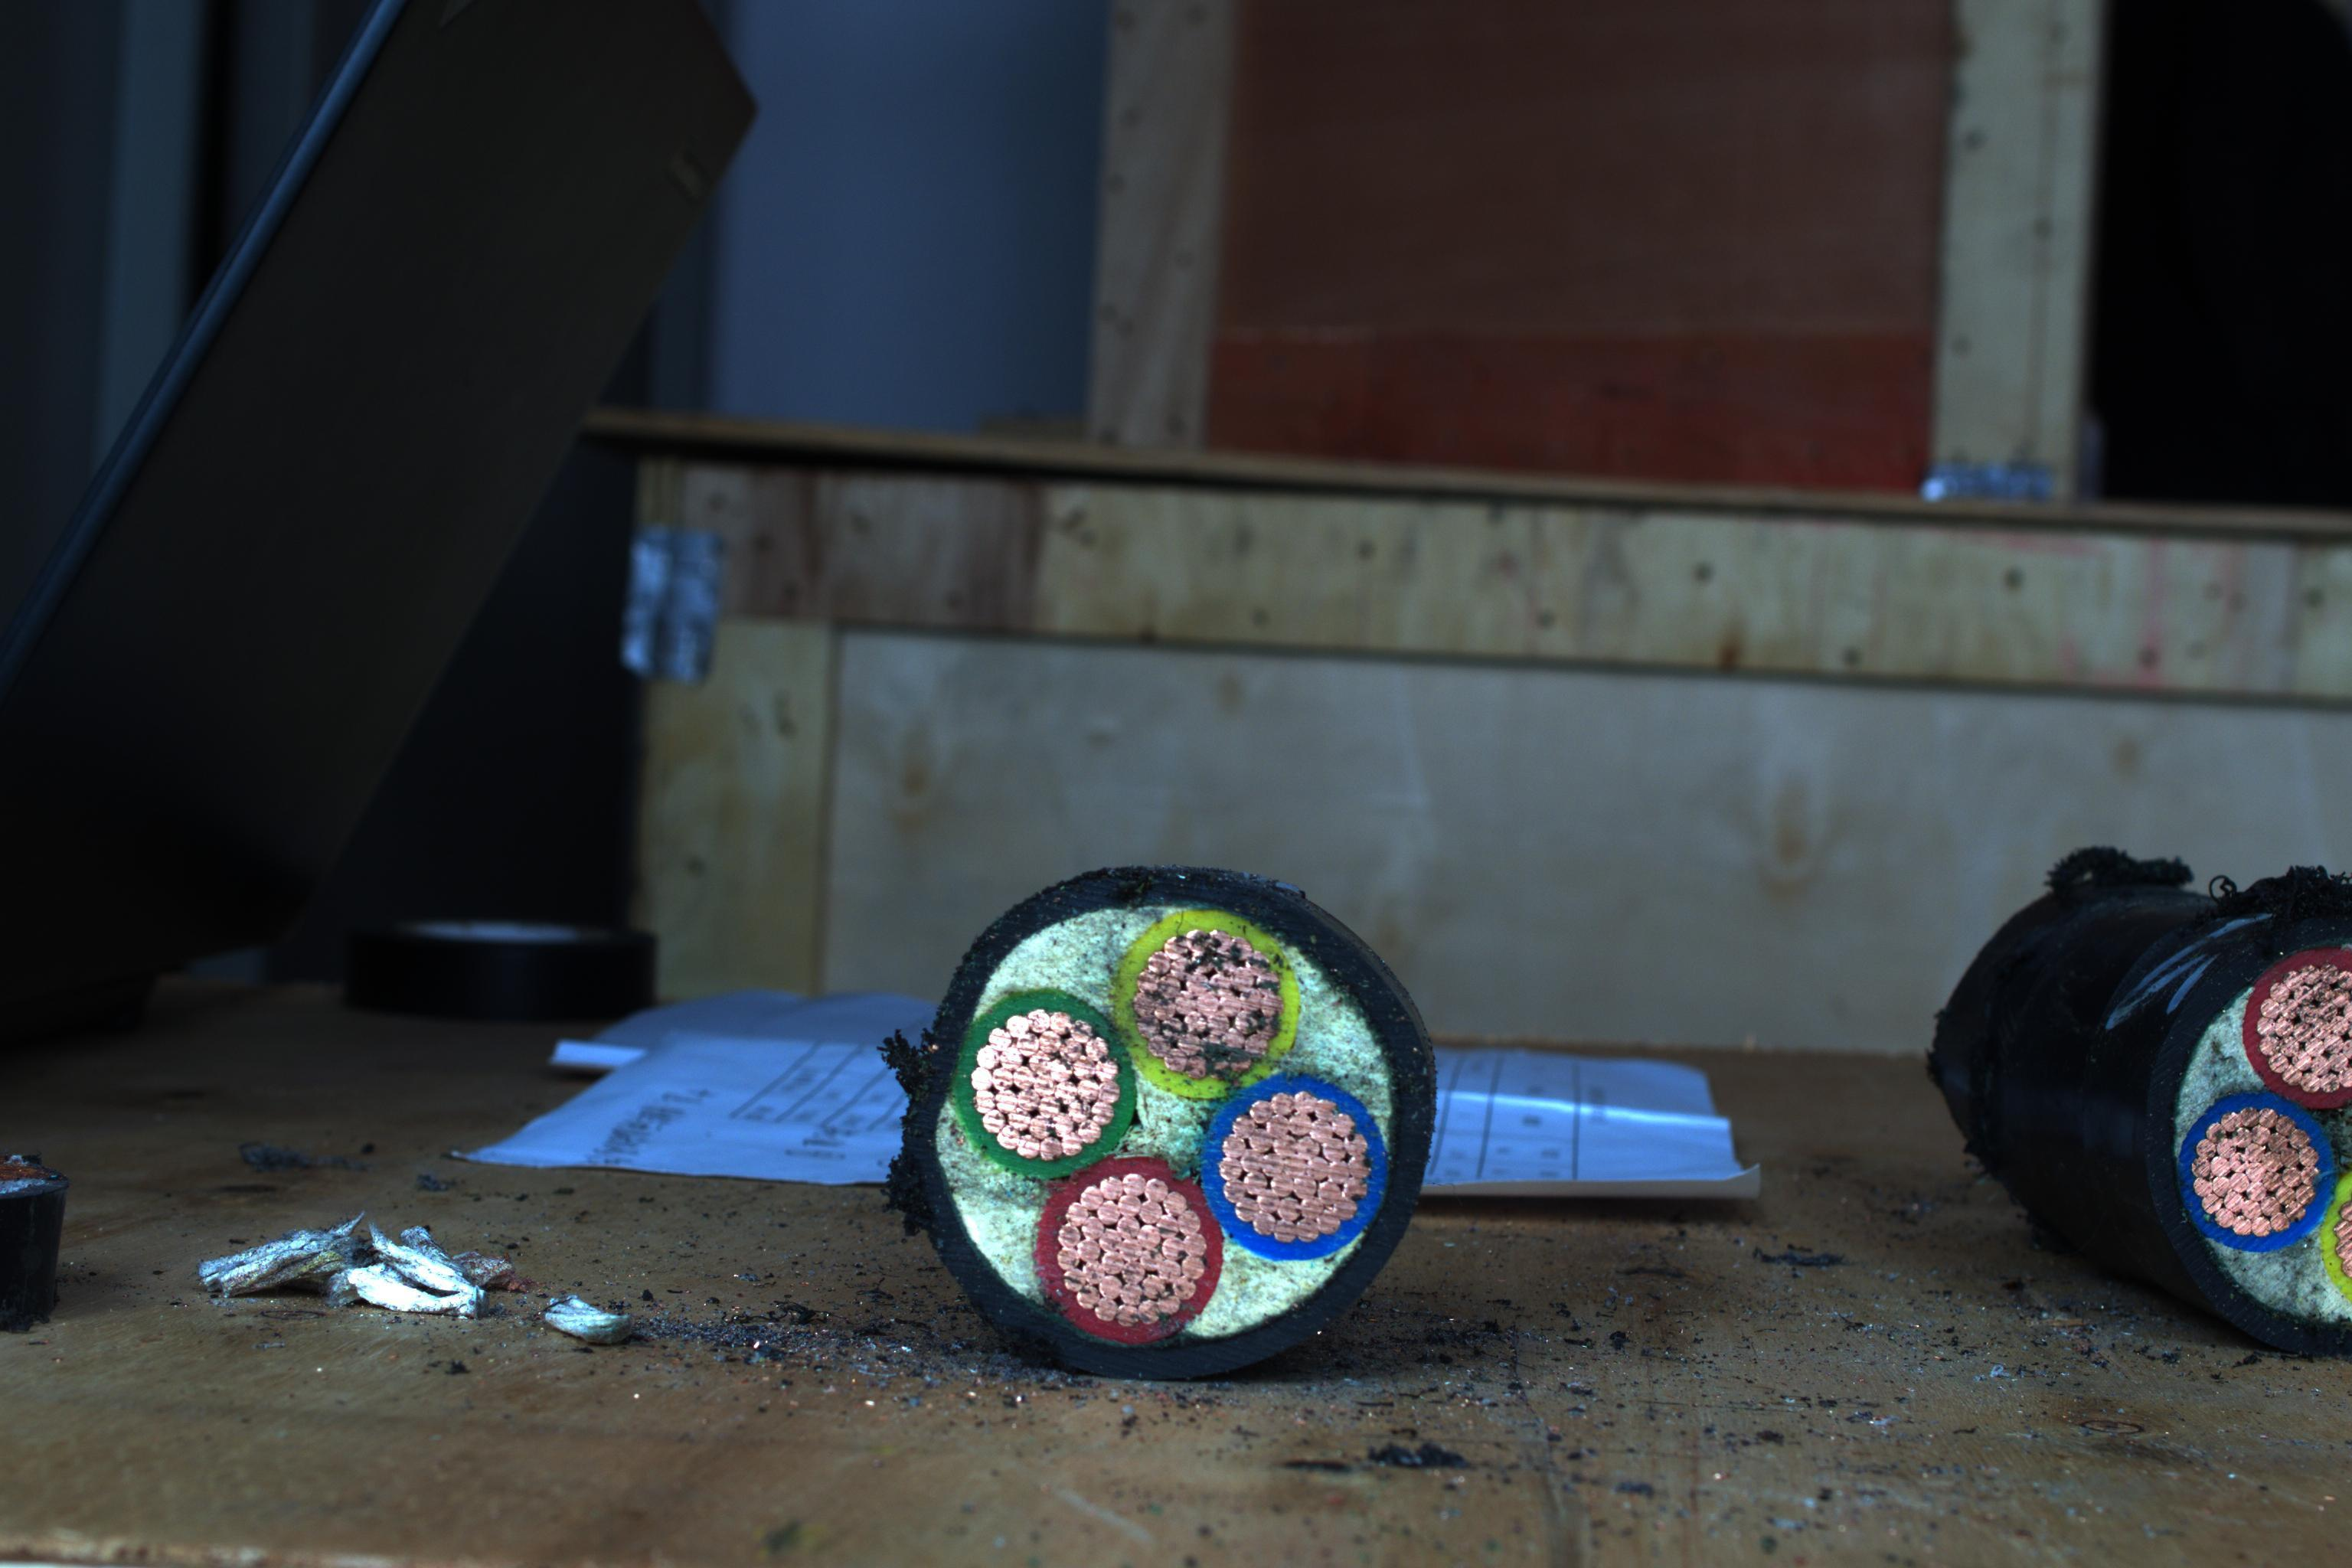YJV_0.6_1kV_4x185: (929, 880, 1414, 1346)
